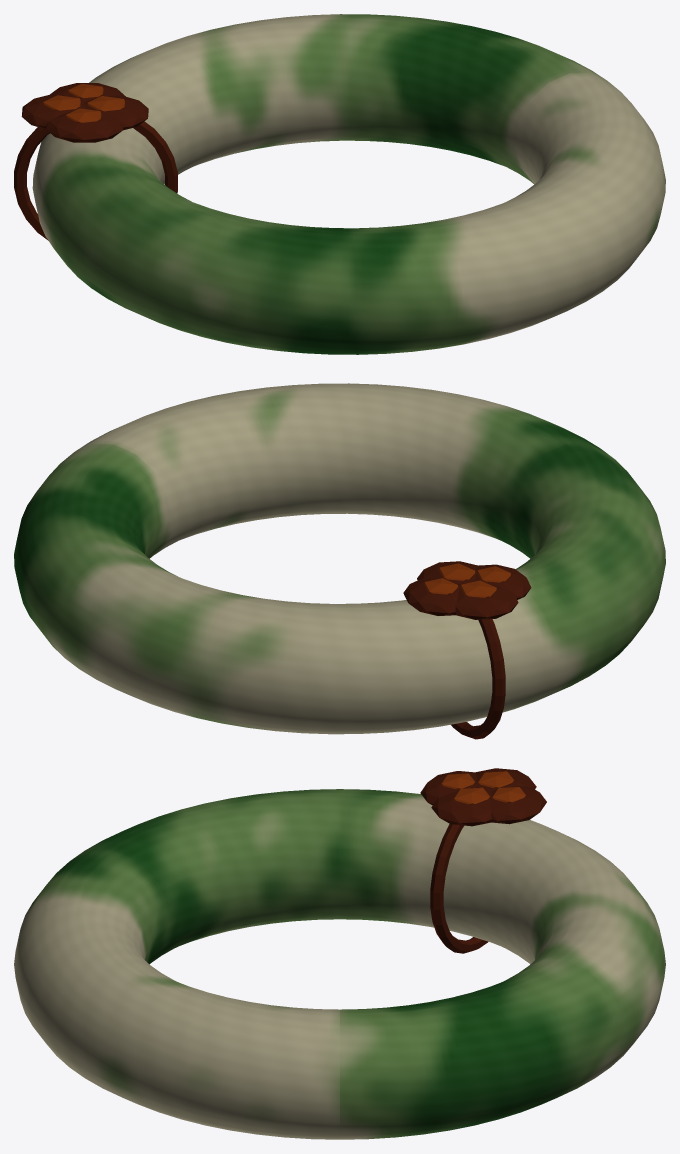
File: yuzhuo.glb
3 renders of one model, top to bottom at view 1: azimuth 30°, elevation 25°; view 2: azimuth 150°, elevation 25°; view 3: azimuth 270°, elevation 25°, orthographic. The views are drawn at different scales.
Parts seen in each view (by area): view 1: yuzhuo; view 2: yuzhuo; view 3: yuzhuo.
Boxes of the visible parts, left/top/right/bottom form: yuzhuo: left=14, top=14, right=665, bottom=354; yuzhuo: left=14, top=383, right=665, bottom=739; yuzhuo: left=14, top=768, right=665, bottom=1139.
Bounding box in the file's own units: 1 × 0.2696 × 1.
1 material, 1 textured.
